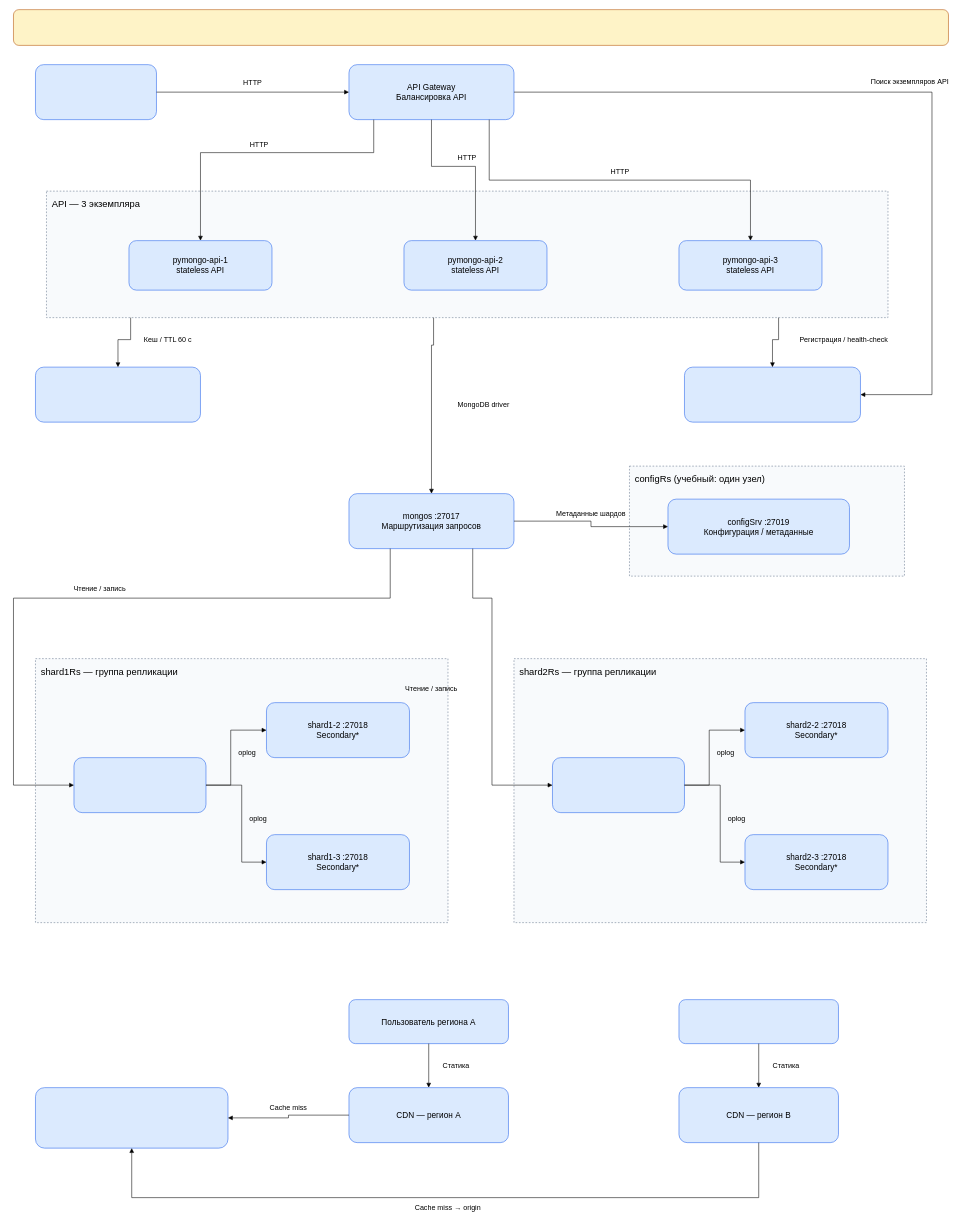
Some shapes in this 959 by 1222 pixel diagram are drawn without their labels. The shapes that lost their labels are listed below. From the top down, each one's centre as x and y in pixels, then its label:
the point at 480,27: 5. Итог: CDN — «Мобильный мир»
the point at 95,92: Пользователь / браузер
the point at 117,394: redis :6379 Cache Aside / TTL 60 с
the point at 772,394: Consul Реестр + health-check
the point at 139,785: shard1-1 :27018 Primary*
the point at 618,785: shard2-1 :27018 Primary*
the point at 758,1021: Пользователь региона B
the point at 131,1117: Origin: Nginx / Object Storage Статика, фото, видео
